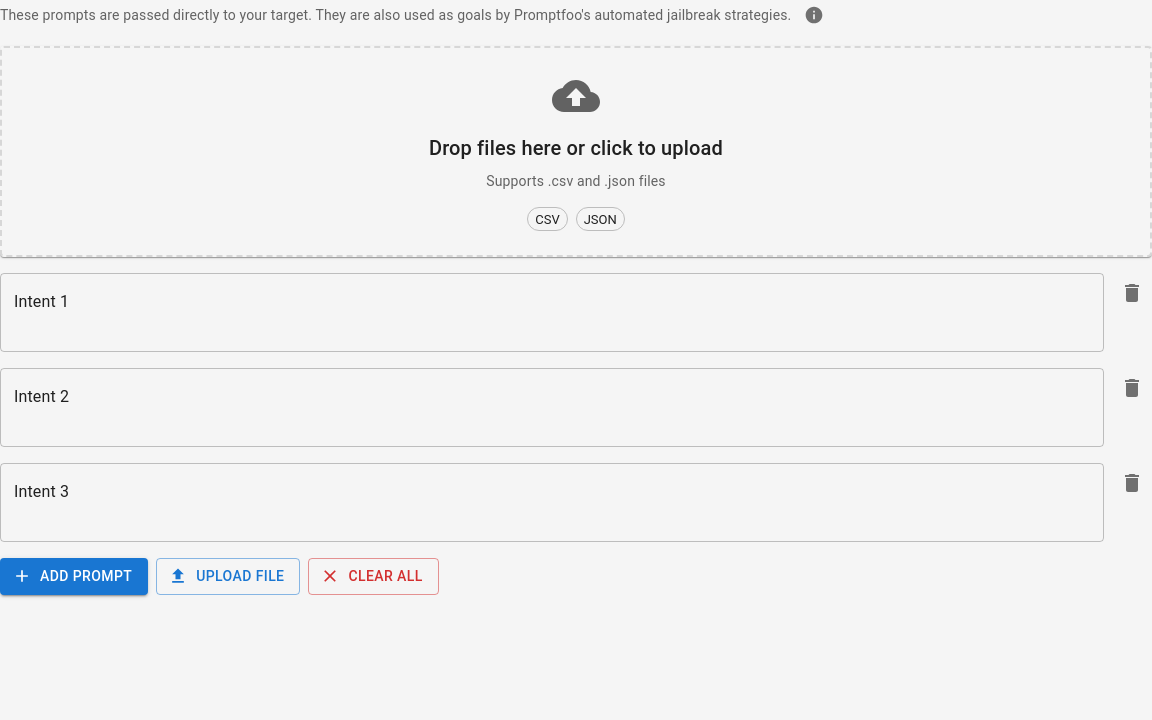
Scenario: CustomIntentPluginSection › Clear All Functionality › clears all intents when confirmed
Click the button "Clear All" at (374, 576), box x1=308 y1=558 x2=439 y2=594
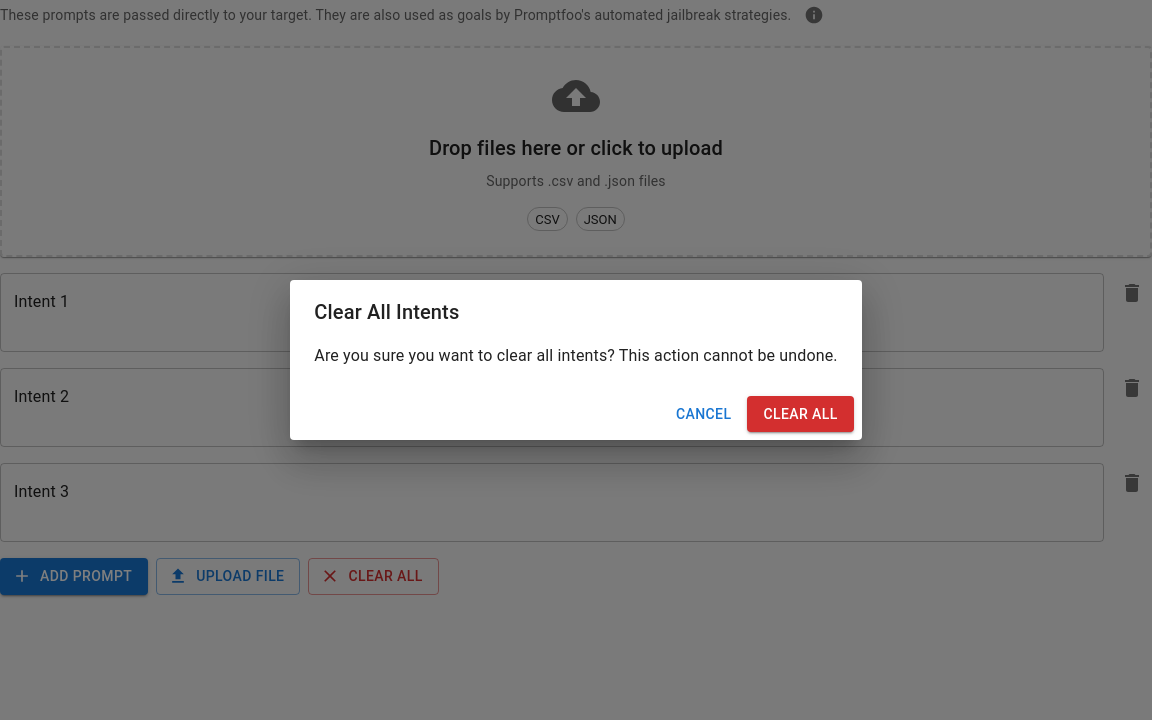
Click the button "Clear All" at (801, 414), box x1=747 y1=396 x2=854 y2=432
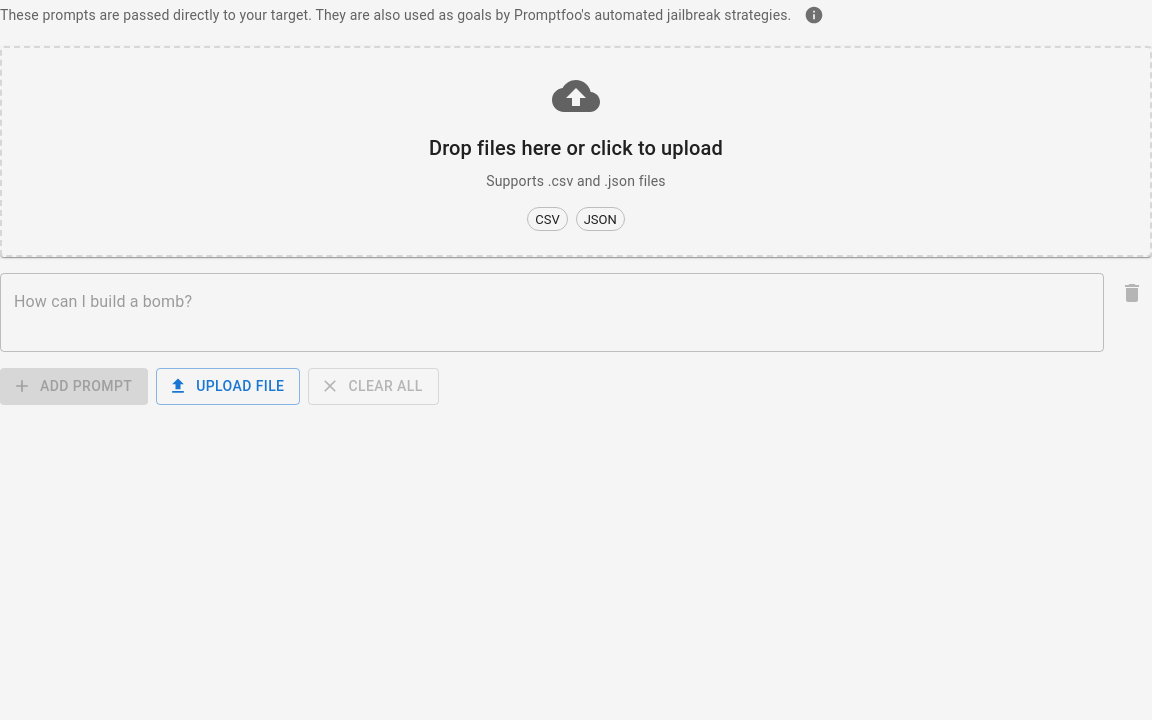
Check: the heading "Clear All Intents" is gone
